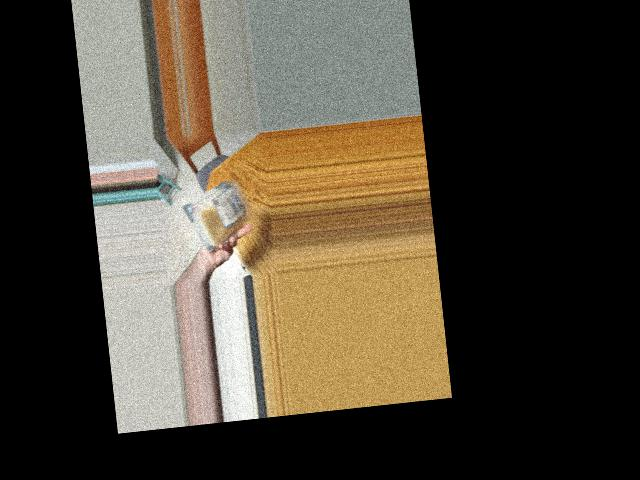cheese: (181, 179, 249, 237)
